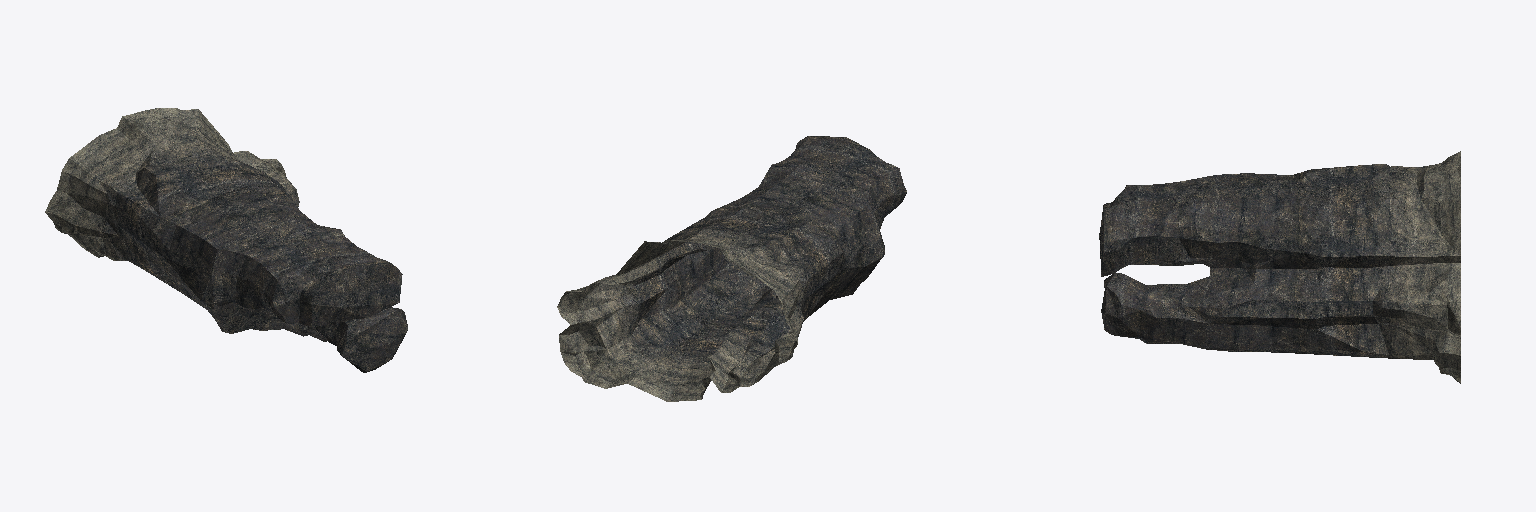
3 views of the same model, side by side, from view 1: azimuth 30°, elevation 25°; view 2: azimuth 150°, elevation 25°; view 3: azimuth 270°, elevation 25° (orthographic).
Visible parts, largest first — view 1: Body.rock_desert_j.smd.mesh_0; view 2: Body.rock_desert_j.smd.mesh_0; view 3: Body.rock_desert_j.smd.mesh_0.
Boxes of the visible parts, x1,y1,x2,y2 form: Body.rock_desert_j.smd.mesh_0: [45, 108, 407, 372]; Body.rock_desert_j.smd.mesh_0: [557, 136, 906, 401]; Body.rock_desert_j.smd.mesh_0: [1099, 151, 1460, 383].
Bounding box in the file's own units: 324 × 217 × 421.
Materials: 1 (1 with a texture image).